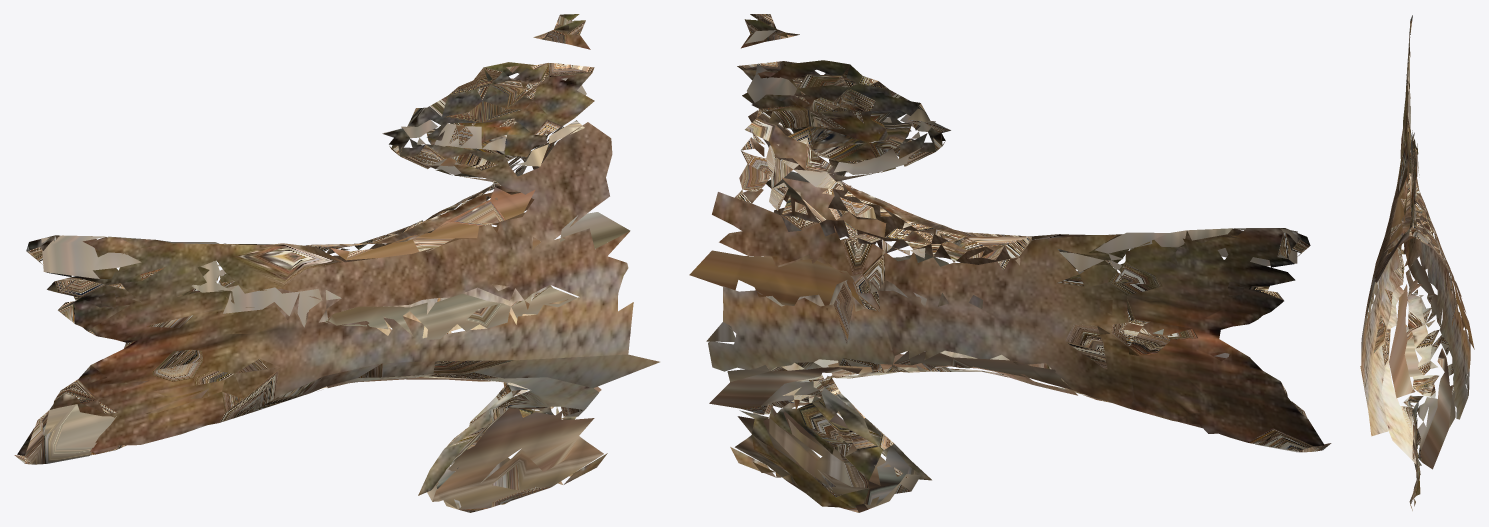
The model's file is blueemperor_b.glb.
The picture shows the model from 3 angles, left to right: view 1: azimuth 30°, elevation 25°; view 2: azimuth 150°, elevation 25°; view 3: azimuth 270°, elevation 25°; orthographic projection. The views are drawn at different scales.
Parts seen in each view (by area): view 1: blueemperor_b; view 2: blueemperor_b; view 3: blueemperor_b.
Part boxes in pixels (<box>): blueemperor_b: <box>14,14,659,512</box>; blueemperor_b: <box>689,14,1331,512</box>; blueemperor_b: <box>1360,15,1474,510</box>.
Bounding box in the file's own units: 0.2747 × 0.2008 × 0.056.
1 material, 1 textured.
